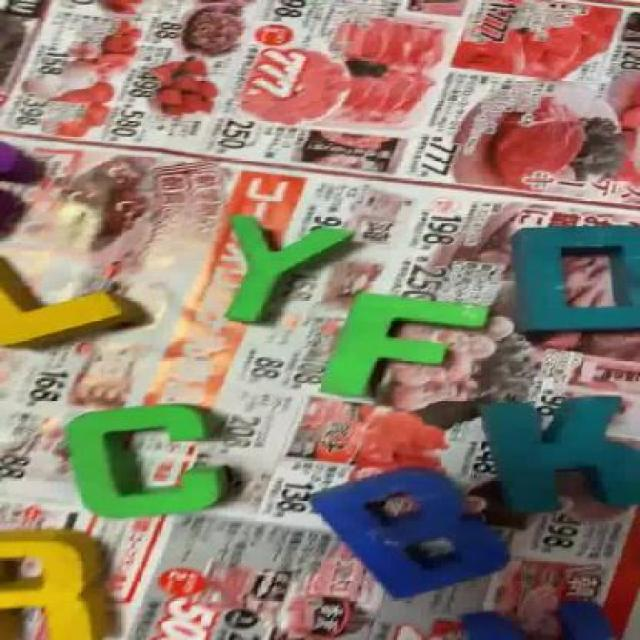B: (318, 469, 504, 591)
C: (70, 404, 233, 514)
F: (322, 293, 487, 402)
K: (490, 394, 639, 517)
Y: (222, 216, 353, 322)
